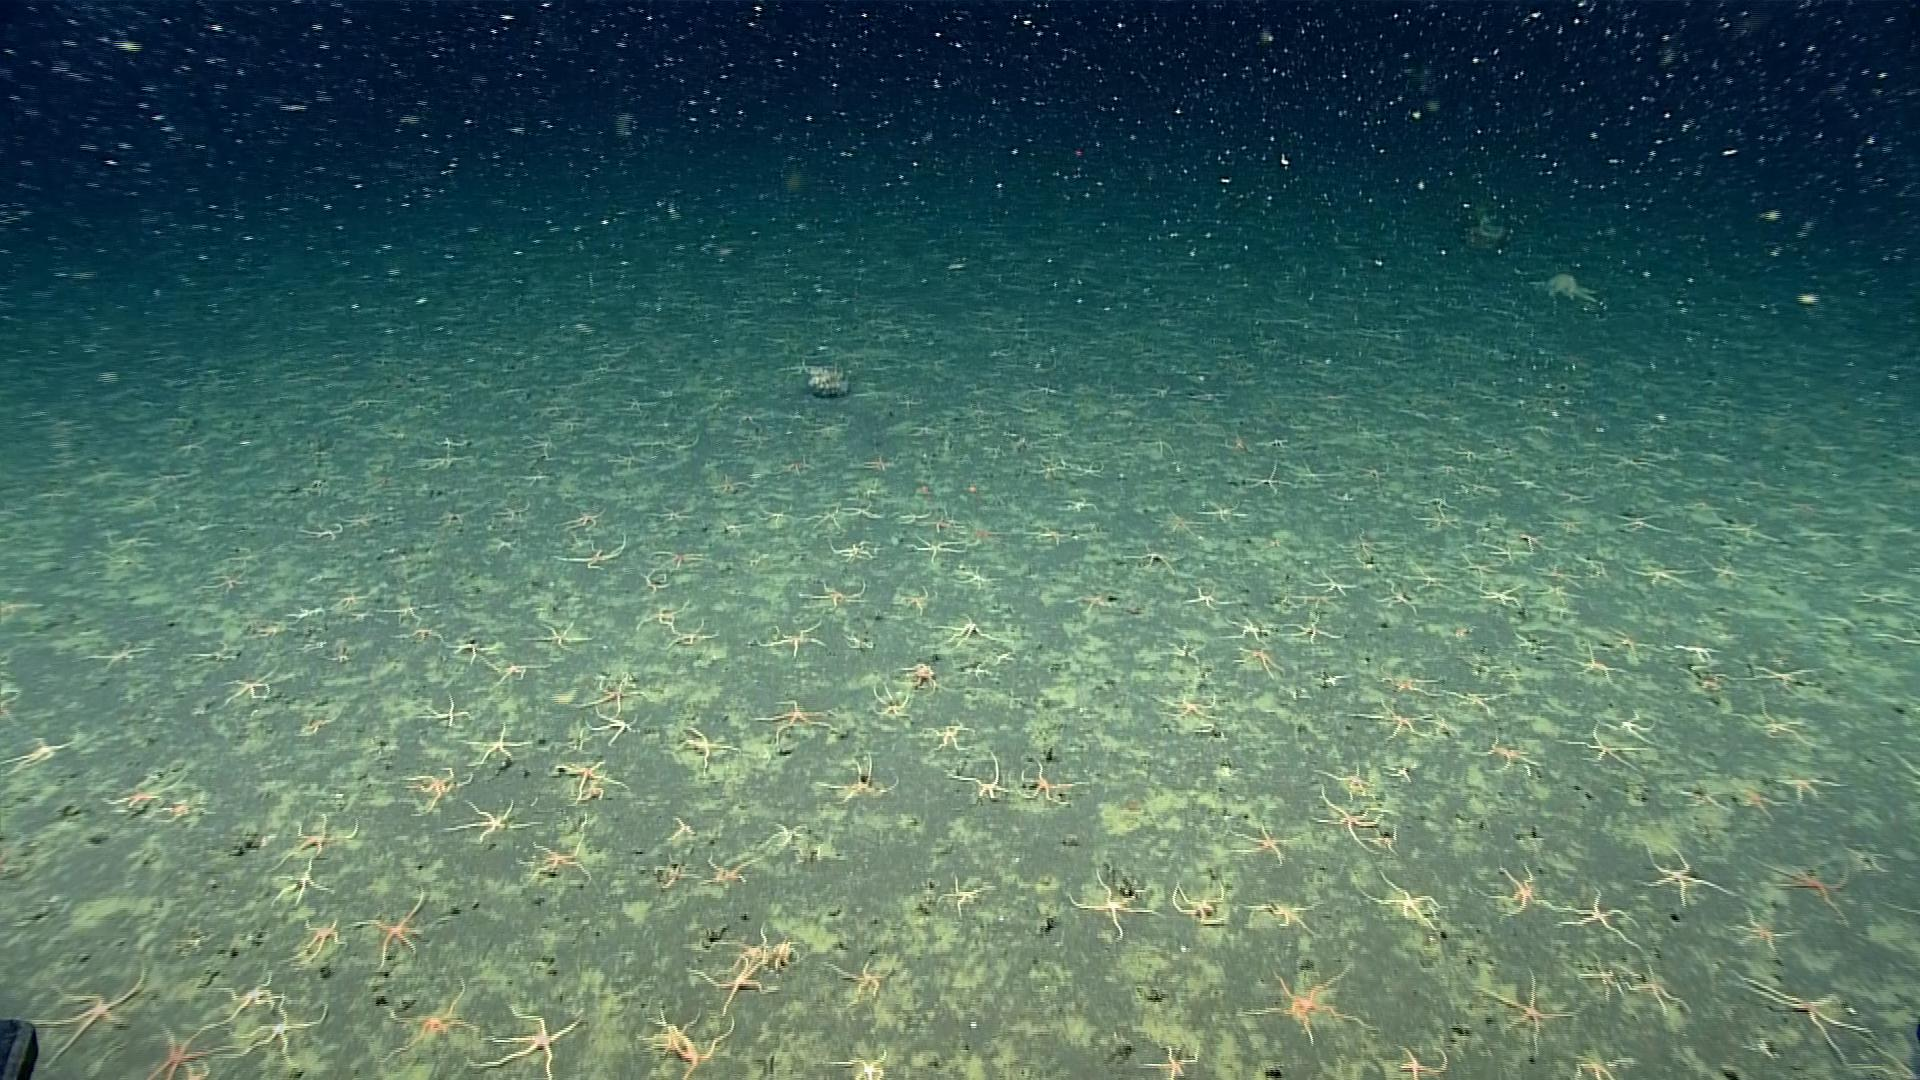brittle_sea_star: (1737, 971, 1878, 1060), (25, 965, 149, 1065), (1240, 964, 1379, 1044), (1470, 965, 1582, 1058), (468, 1007, 585, 1079), (229, 988, 330, 1064), (634, 1004, 735, 1076), (1069, 868, 1166, 943), (380, 980, 469, 1058), (1756, 852, 1854, 922), (1547, 887, 1647, 955), (1635, 844, 1738, 906), (353, 886, 433, 967), (1473, 860, 1572, 923), (1356, 869, 1445, 928), (1312, 781, 1382, 856), (145, 1019, 233, 1079), (686, 957, 773, 1017), (268, 812, 360, 865), (1553, 721, 1650, 771), (712, 923, 800, 976), (510, 605, 592, 659), (822, 750, 898, 807), (443, 799, 537, 844), (96, 767, 181, 816), (398, 765, 473, 819), (1727, 691, 1809, 740), (1626, 963, 1692, 1021), (1726, 906, 1800, 957), (516, 833, 593, 882), (550, 758, 628, 807), (819, 957, 890, 1010), (661, 725, 736, 774), (1350, 698, 1436, 740), (750, 698, 831, 742), (638, 613, 736, 649), (285, 914, 345, 971), (269, 856, 335, 907), (3, 732, 82, 774), (947, 752, 1013, 802), (1237, 898, 1321, 936), (215, 967, 281, 1015), (1371, 658, 1447, 700), (465, 723, 535, 767), (1468, 732, 1539, 775), (756, 617, 829, 658), (1555, 641, 1626, 683), (1017, 762, 1089, 803), (218, 665, 282, 707), (1153, 690, 1225, 727), (551, 537, 624, 574), (932, 876, 996, 918), (1578, 951, 1630, 1002), (1312, 758, 1379, 796), (574, 678, 642, 715), (1229, 823, 1287, 865), (1170, 881, 1224, 926), (1443, 687, 1513, 721), (82, 641, 149, 676), (1623, 560, 1704, 589), (700, 851, 761, 889), (798, 578, 866, 611), (1138, 1043, 1201, 1079), (1713, 516, 1784, 547), (1862, 1039, 1919, 1079), (1229, 640, 1286, 679), (1600, 702, 1654, 742), (585, 709, 641, 749), (378, 593, 444, 626), (1284, 612, 1346, 646), (756, 818, 818, 852), (934, 613, 994, 647), (923, 717, 975, 756), (1743, 663, 1816, 690), (866, 682, 914, 721), (1178, 583, 1242, 612), (1395, 1044, 1449, 1079), (827, 1050, 889, 1079), (198, 563, 248, 599), (1775, 774, 1844, 799), (1569, 1050, 1626, 1079), (1701, 555, 1758, 584), (446, 633, 497, 665), (653, 853, 695, 890), (1610, 509, 1672, 534), (491, 657, 549, 683), (1309, 567, 1360, 597), (426, 692, 467, 729), (326, 583, 373, 615), (949, 562, 994, 592), (1226, 616, 1273, 644), (1730, 785, 1774, 814), (1476, 580, 1526, 605), (1874, 624, 1919, 651), (396, 618, 442, 645), (901, 662, 938, 687), (285, 600, 327, 621), (161, 794, 194, 820), (665, 814, 698, 840), (252, 618, 290, 637), (1549, 516, 1590, 533)
